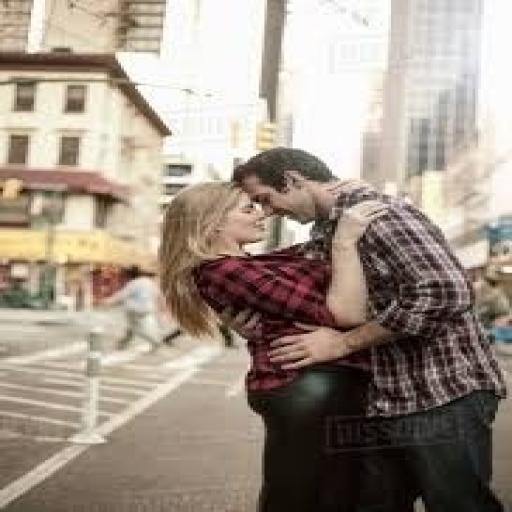hugging: (152, 145, 509, 510)
